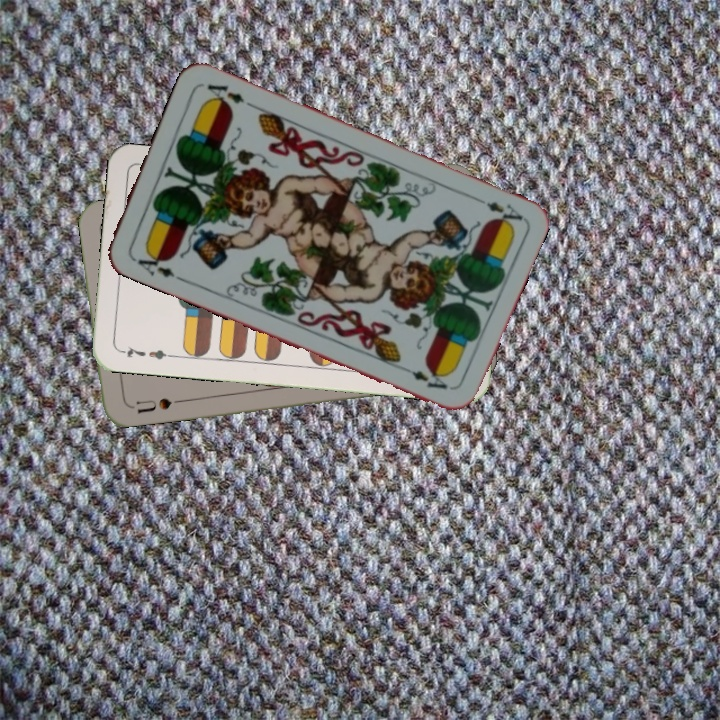E7: (116, 342, 175, 362)
EA: (469, 192, 525, 228), (134, 246, 185, 284)
SU: (124, 394, 183, 416)
